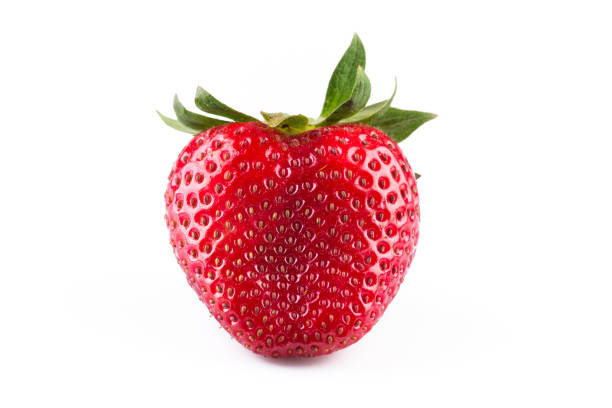Fresa: (160, 108, 430, 369)
